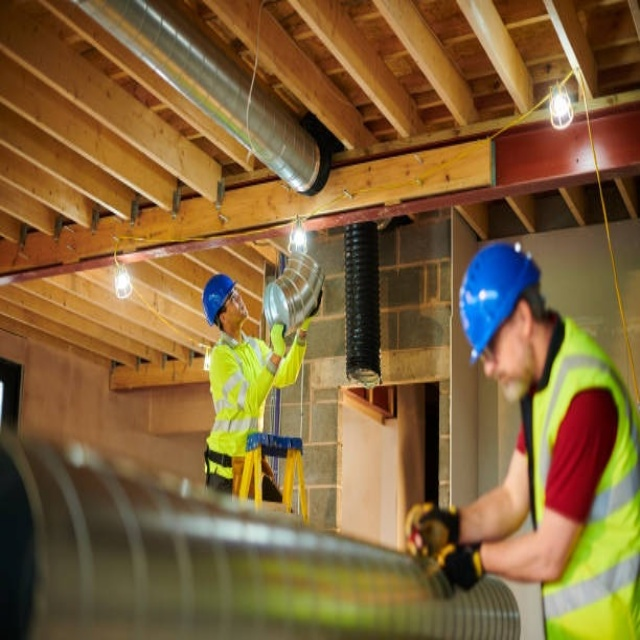Gafas: (478, 307, 510, 365), (225, 288, 244, 312)
Guantes: (405, 502, 459, 557), (440, 543, 486, 591), (270, 322, 286, 358), (299, 310, 316, 336)
Sin_mascara: (485, 364, 522, 402)
